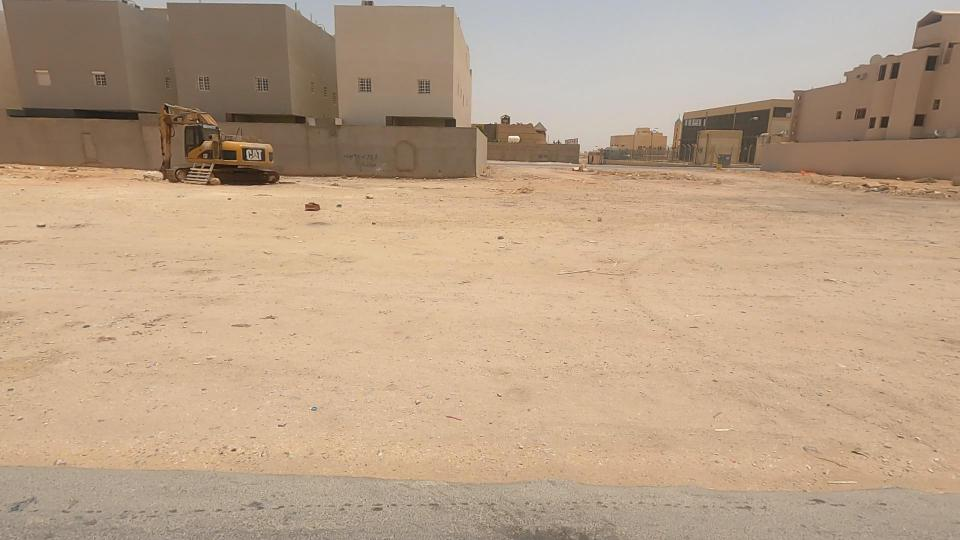GARBAGE: (264, 174, 351, 244)
